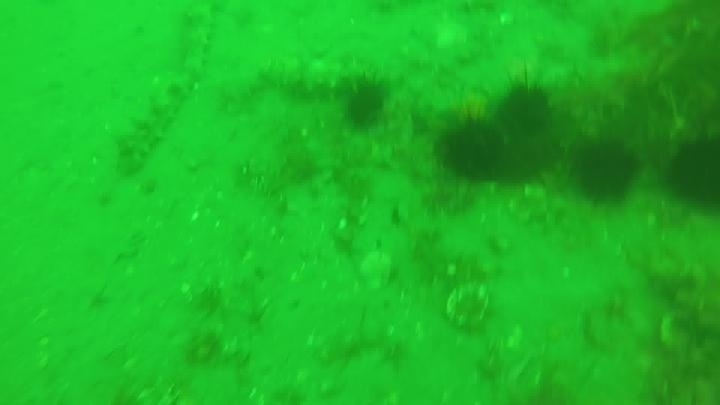echinus: (435, 114, 510, 183), (569, 136, 642, 204), (663, 130, 719, 212), (485, 125, 555, 186), (494, 77, 557, 141), (343, 80, 390, 131)
holothurian: (113, 78, 191, 177), (259, 54, 381, 102), (177, 3, 217, 88)
